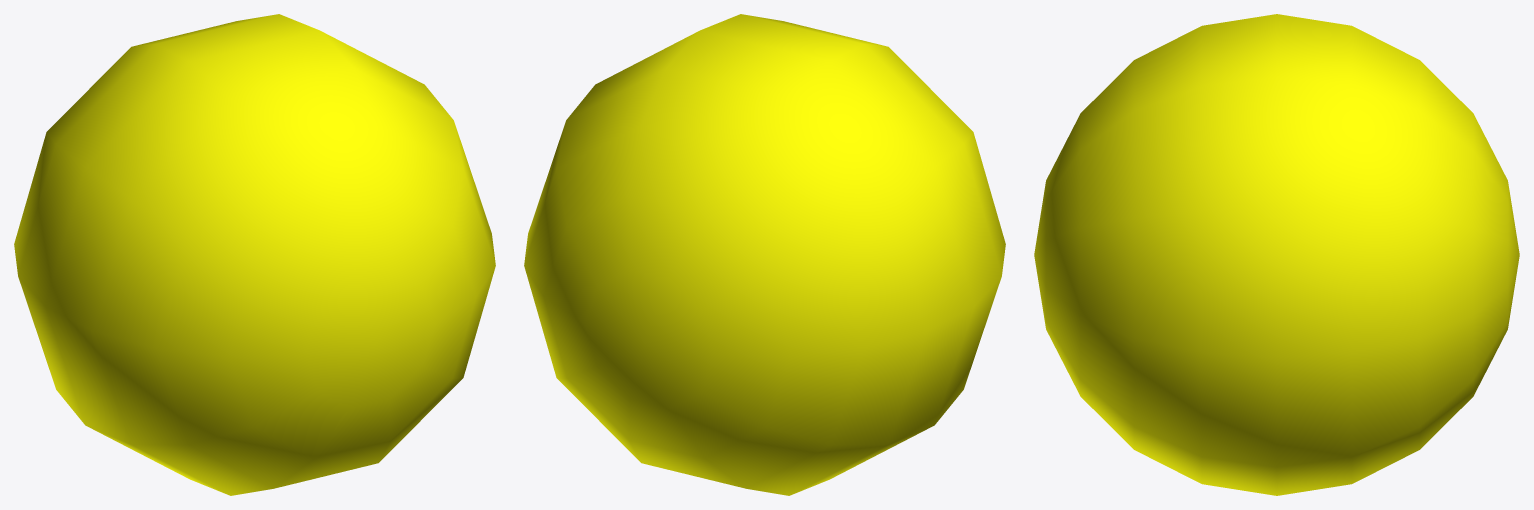
File: spheres.gltf
3 views of the same model, side by side, from view 1: azimuth 30°, elevation 25°; view 2: azimuth 150°, elevation 25°; view 3: azimuth 270°, elevation 25° (orthographic).
Parts seen in each view (by area): view 1: model; view 2: model; view 3: model.
Boxes of the visible parts, x1,y1,x2,y2 form: model: (14,14,495,495); model: (524,14,1005,495); model: (1034,14,1519,495).
Size of the model in its own units: 14 by 13.31 by 14.
